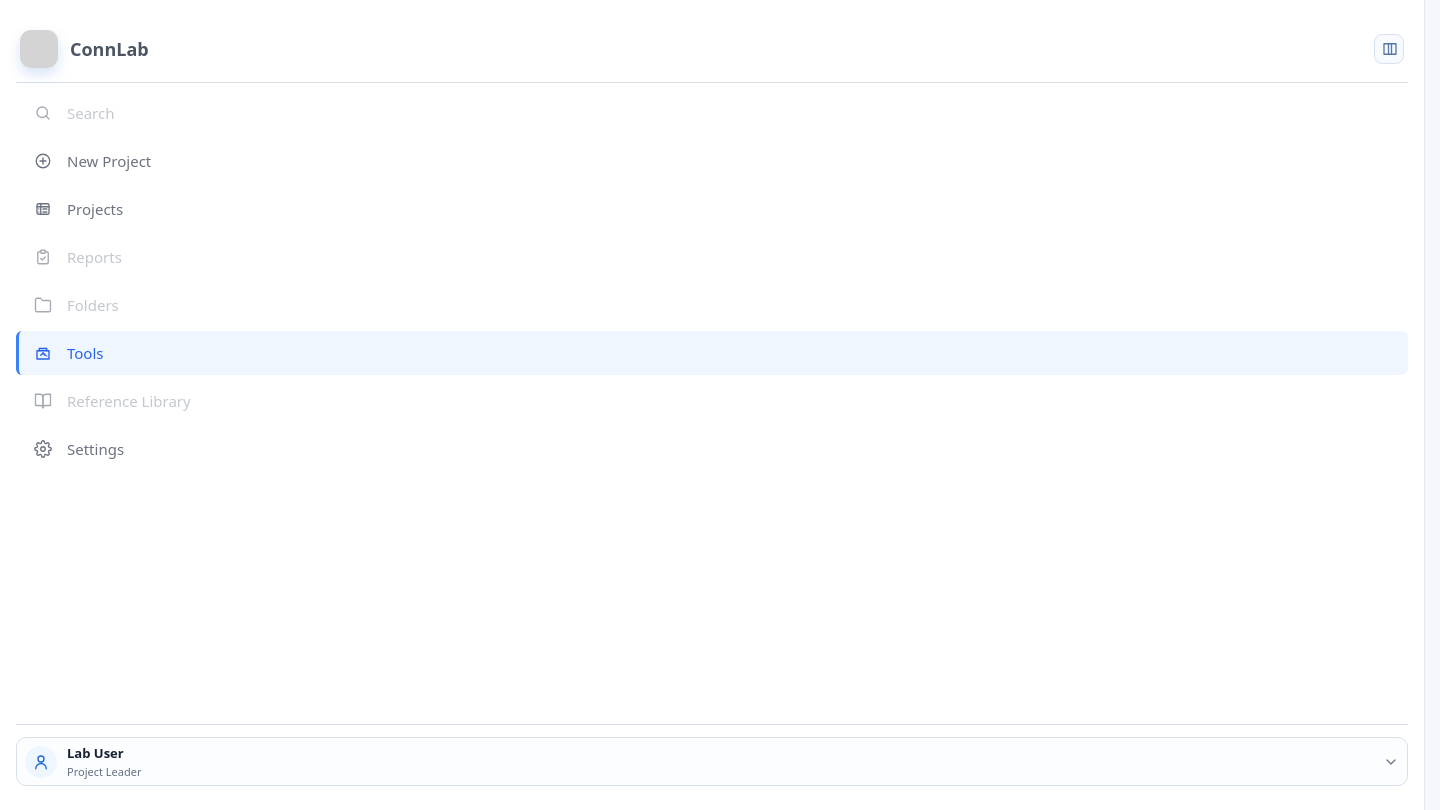
Test: Sidebar interaction lock › shows a recognized backend field reason once and focuses the editable name after save finishes
This screenshot has width=1440, height=810.
Click the button "Lab User Project Leader" at {"x": 41, "y": 762}, box [16,737,1408,786]
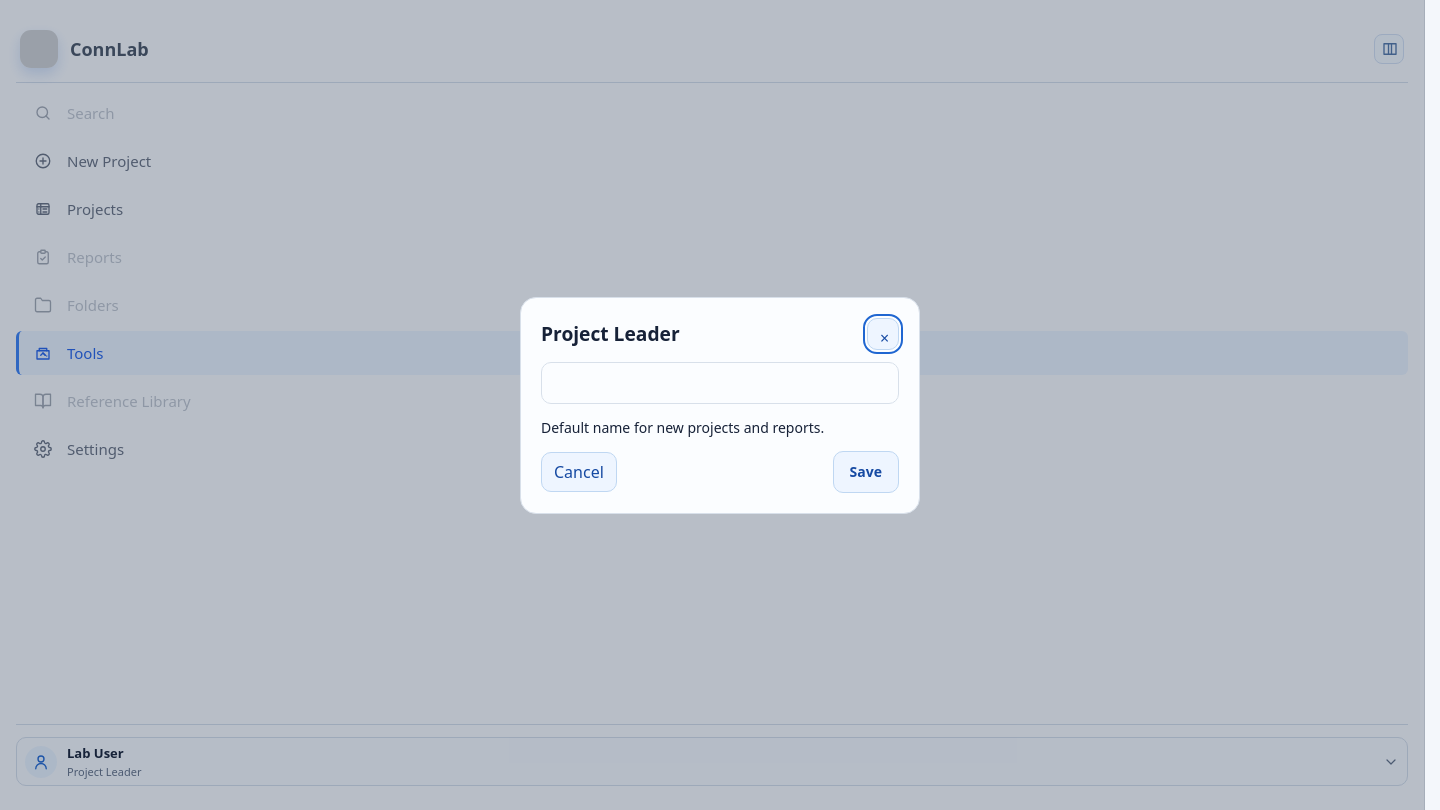
Type "姓名" into the field labelled "Project Leader" at {"x": 720, "y": 382}, box [541,362,899,404]
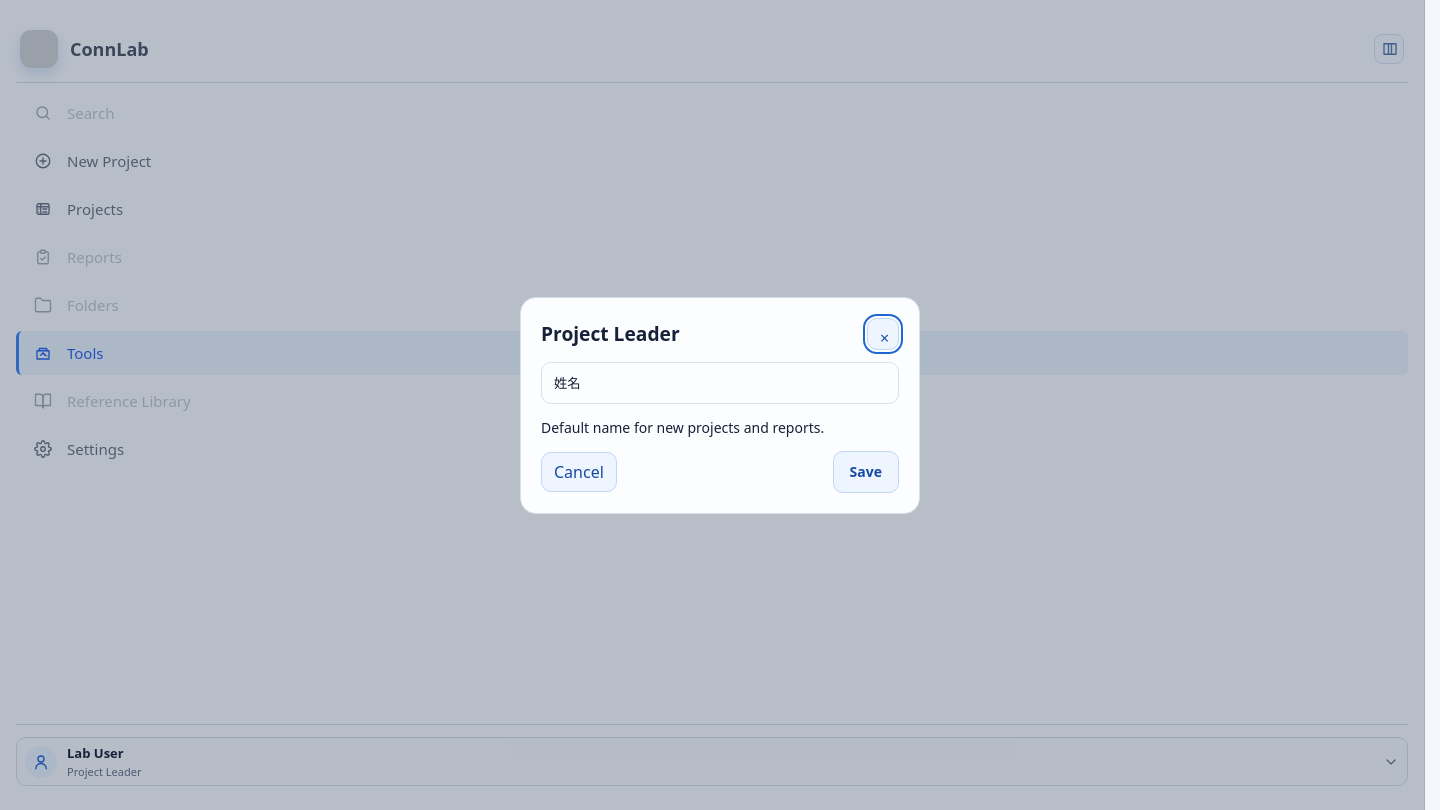
Click the button "Save" at {"x": 866, "y": 472}, box [833,450,899,492]
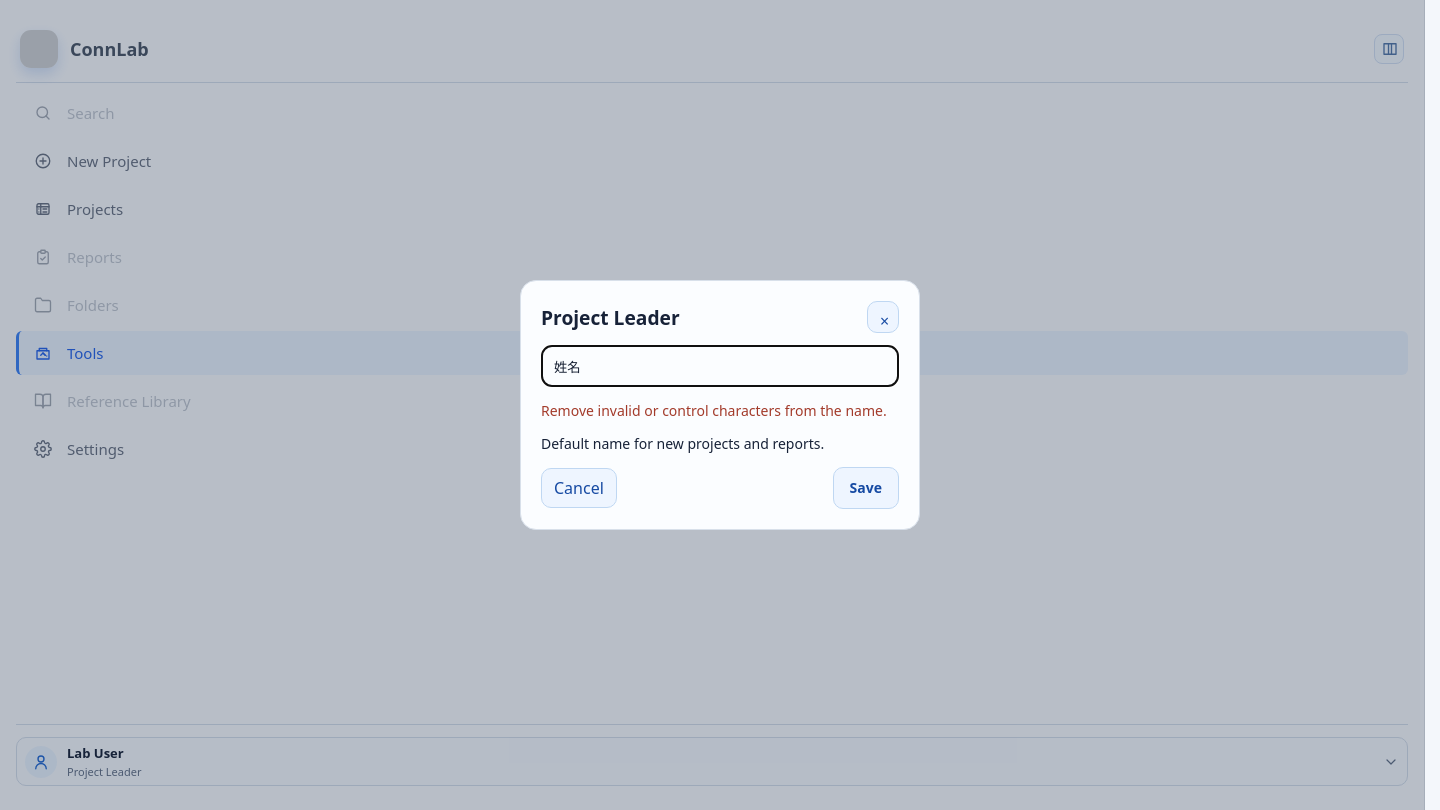
Now the message reads "Remove invalid or control characters from the name.", box [541,401,887,420]
Now the number of messages is 1, box [541,401,899,420]
